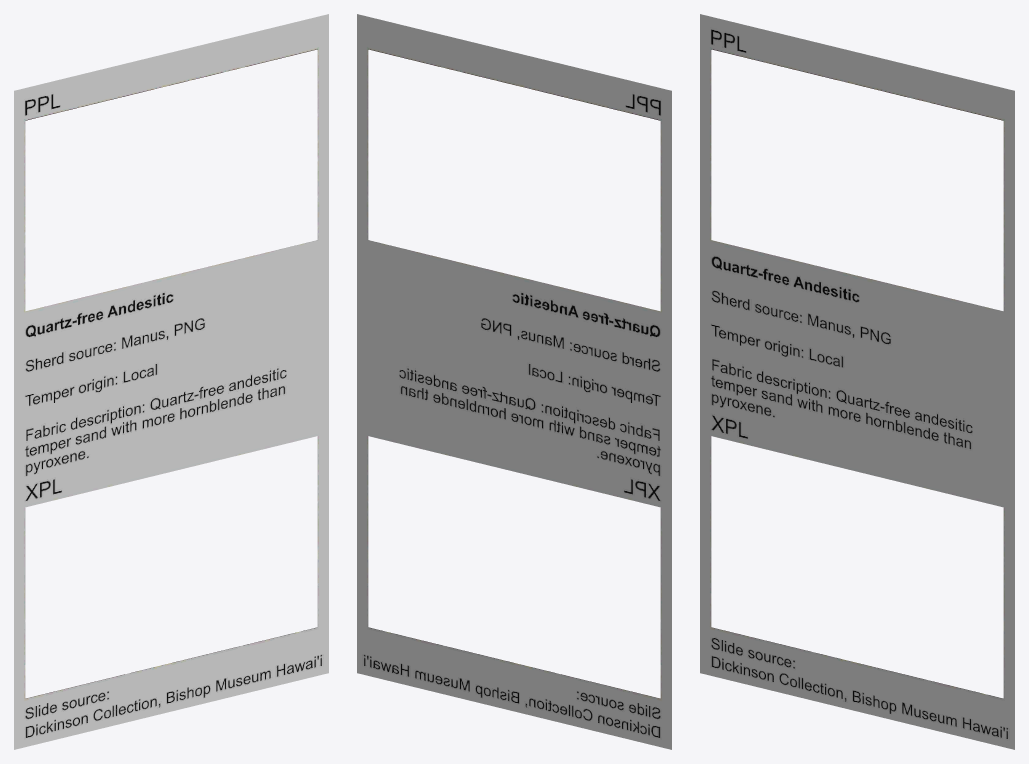
The model's file is wd_41_4_frame.glb.
The picture shows the model from 3 angles, left to right: view 1: azimuth 30°, elevation 25°; view 2: azimuth 150°, elevation 25°; view 3: azimuth 330°, elevation 25°; orthographic projection.
Visible parts, largest first — view 1: WD_41_4; view 2: WD_41_4; view 3: WD_41_4.
Part boxes in pixels (<box>): WD_41_4: <box>14,14,328,749</box>; WD_41_4: <box>357,14,671,749</box>; WD_41_4: <box>700,14,1014,749</box>.
Size of the model in its own units: 0.5 by 1 by 4.37e-08.
Materials: 1 (1 with a texture image).
